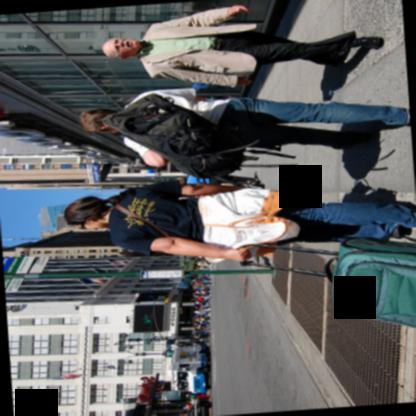backpack: (103, 95, 260, 182)
handbag: (112, 202, 176, 239)
suitcase: (240, 237, 416, 327)
